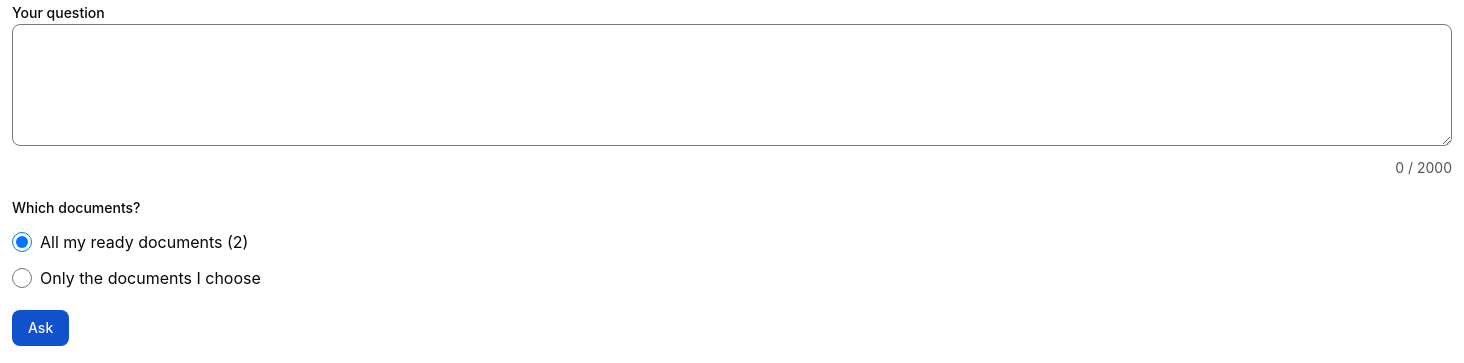
AskView › requires a question and counts characters up to 2000
Click the button "Ask".
click(41, 328)  # box [12, 310, 69, 346]
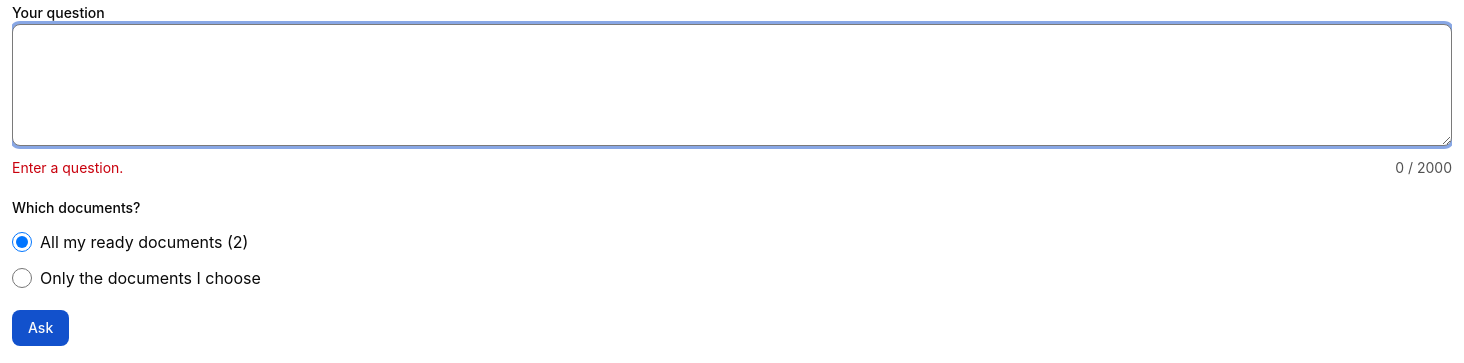
Expected: the text "Enter a question." is shown, [12, 158, 123, 178]
Type "abc" into the text box labelled "Your question".
click(732, 85); type("abc")  # box [12, 24, 1452, 146]
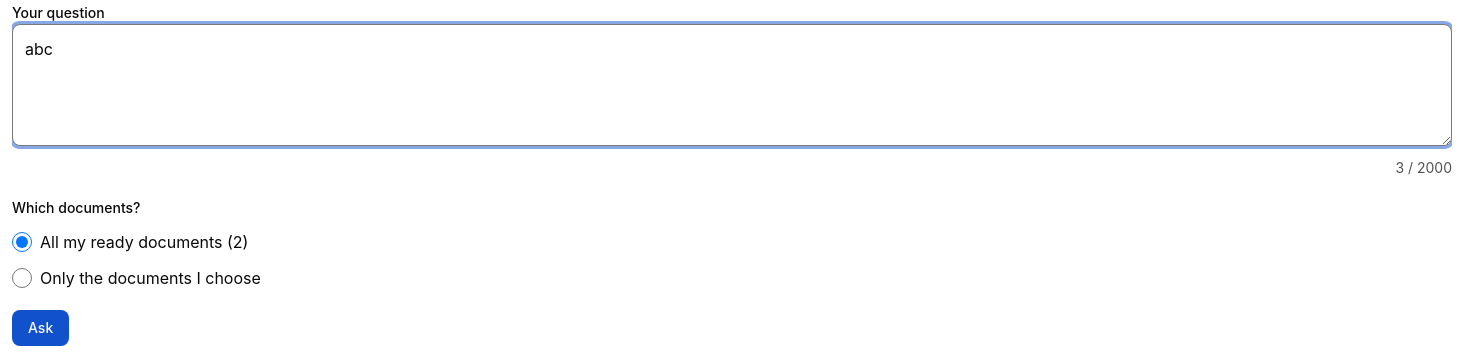
Expected: the text with test id "counter" reads "3 / 2000", [1395, 159, 1452, 176]
